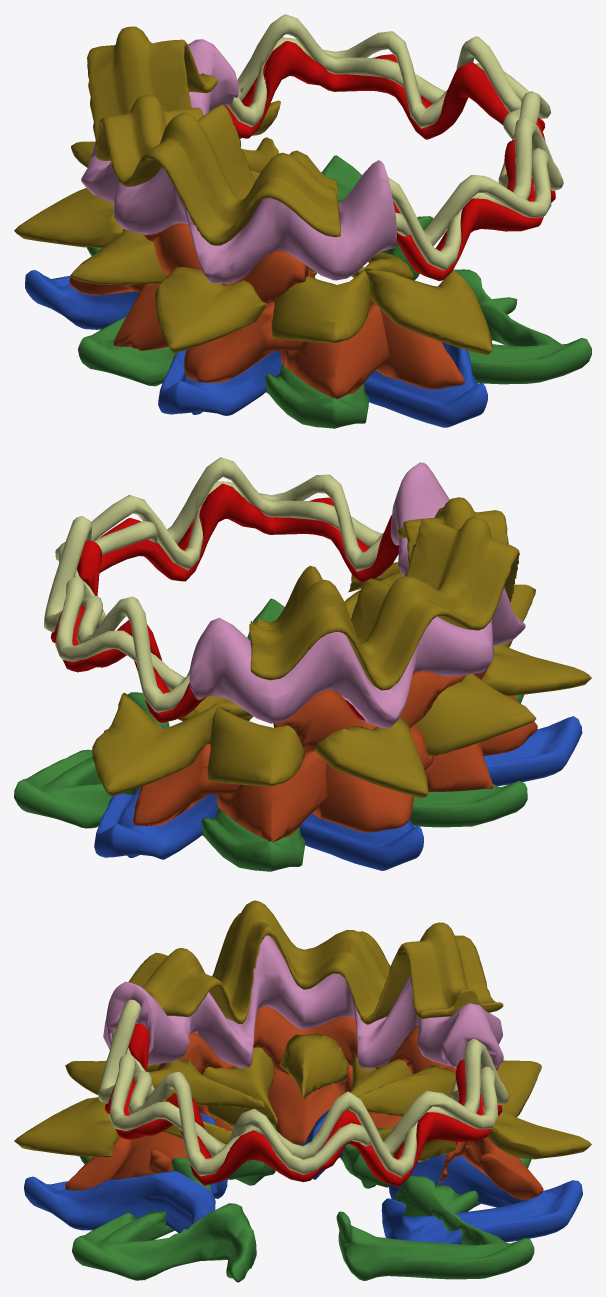
File: walker.glb
3 renders of one model, top to bottom at view 1: azimuth 30°, elevation 25°; view 2: azimuth 150°, elevation 25°; view 3: azimuth 270°, elevation 25°, orthographic. The views are drawn at different scales.
Parts seen in each view (by area): view 1: Vert.019, Vert.016, Vert.027, Vert.008, Vert.007, Vert.029, Vert.005, Vert.030, Vert.020, Vert.013, Vert.018, Vert.014; view 2: Vert.019, Vert.016, Vert.027, Vert.008, Vert.007, Vert.005, Vert.030, Vert.029, Vert.013, Vert.020, Vert.018, Vert.014; view 3: Vert.008, Vert.019, Vert.016, Vert.007, Vert.027, Vert.030, Vert.013, Vert.020, Vert.005, Vert.029, Vert.014, Vert.018.
Boxes of the visible parts, x1=… form: Vert.019: x1=87, y1=26, x2=340, y2=245; Vert.016: x1=81, y1=39, x2=396, y2=283; Vert.027: x1=14, y1=100, x2=492, y2=354; Vert.008: x1=78, y1=155, x2=591, y2=428; Vert.007: x1=25, y1=270, x2=487, y2=427; Vert.029: x1=226, y1=41, x2=555, y2=280; Vert.005: x1=70, y1=137, x2=414, y2=343; Vert.030: x1=227, y1=14, x2=563, y2=270; Vert.020: x1=227, y1=31, x2=551, y2=246; Vert.013: x1=69, y1=248, x2=464, y2=389; Vert.018: x1=113, y1=283, x2=389, y2=398; Vert.014: x1=122, y1=223, x2=315, y2=303; Vert.019: x1=249, y1=497, x2=519, y2=690; Vert.016: x1=189, y1=462, x2=525, y2=727; Vert.027: x1=92, y1=562, x2=591, y2=798; Vert.008: x1=14, y1=598, x2=527, y2=871; Vert.007: x1=94, y1=716, x2=582, y2=870; Vert.005: x1=178, y1=572, x2=536, y2=786; Vert.030: x1=44, y1=457, x2=381, y2=712; Vert.029: x1=50, y1=483, x2=399, y2=722; Vert.013: x1=133, y1=696, x2=537, y2=832; Vert.020: x1=55, y1=474, x2=383, y2=690; Vert.018: x1=216, y1=742, x2=493, y2=841; Vert.014: x1=273, y1=668, x2=487, y2=754; Vert.008: x1=72, y1=1126, x2=534, y2=1282; Vert.019: x1=128, y1=900, x2=503, y2=1024; Vert.016: x1=103, y1=935, x2=503, y2=1070; Vert.007: x1=24, y1=1109, x2=582, y2=1244; Vert.027: x1=14, y1=1033, x2=591, y2=1159; Vert.030: x1=98, y1=999, x2=508, y2=1177; Vert.013: x1=65, y1=1069, x2=543, y2=1200; Vert.020: x1=109, y1=1028, x2=497, y2=1174; Vert.005: x1=65, y1=1047, x2=541, y2=1162; Vert.029: x1=104, y1=1023, x2=502, y2=1186; Vert.014: x1=157, y1=1006, x2=456, y2=1076; Vert.018: x1=148, y1=1064, x2=466, y2=1182.
Bounding box in the file's own units: 4.16 × 2.35 × 4.86.
